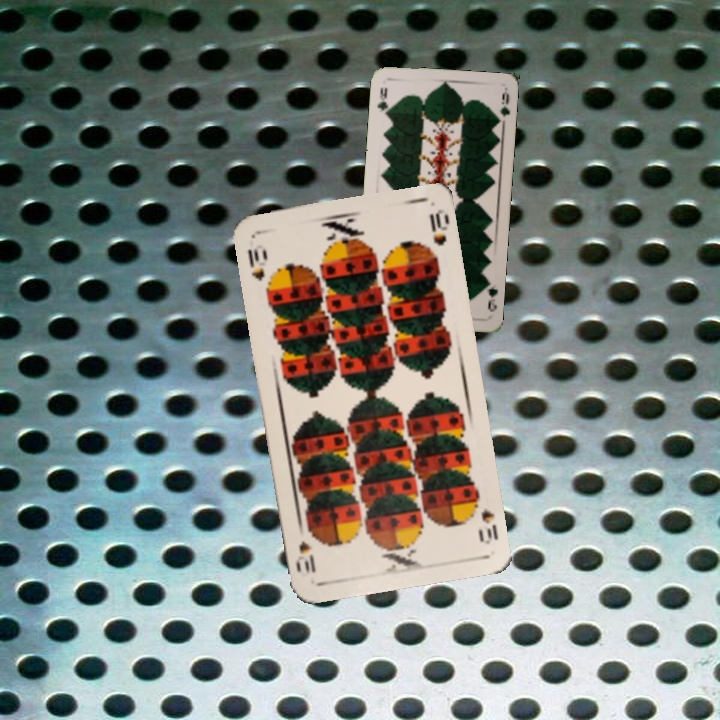G9: (481, 276, 500, 314), (373, 83, 391, 121)
S10: (469, 492, 501, 547), (244, 244, 267, 283)
